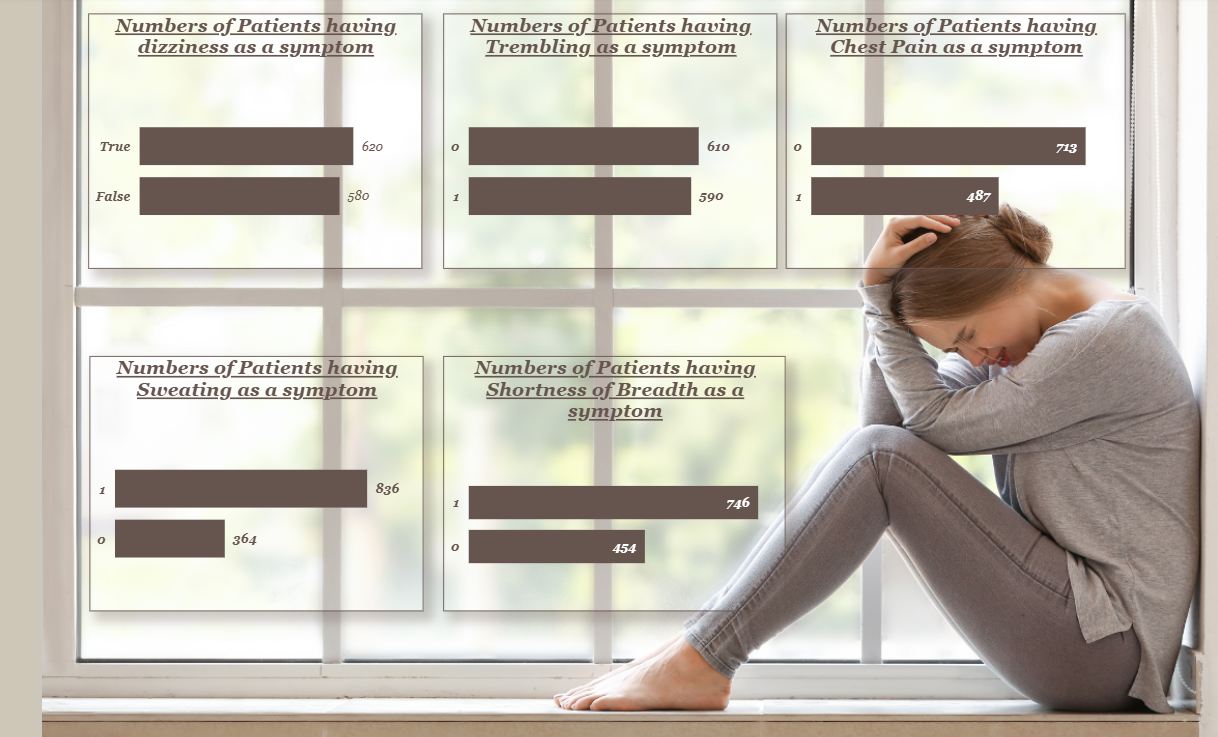

What the dashboard file says about the page in this screenshot:
{"tool":"powerbi","page":{"name":"No of Patients by Symptoms","canvas":[1280,720],"ordinal":1},"visuals":[{"type":"barChart","title":"Numbers of Patients having dizziness as a symptom","fields":{"Category":["PANIC_ATTACK_DATA.DIZZINESS"],"Y":["CountNonNull(PANIC_ATTACK_DATA.ID)"]},"box":[44.6,16.9,322.1,246.1],"z":0},{"type":"barChart","title":"Numbers of Patients having Trembling  as a symptom","fields":{"Category":["PANIC_ATTACK_DATA.TREMBLING"],"Y":["CountNonNull(PANIC_ATTACK_DATA.ID)"]},"box":[387.3,16.9,322.1,246.1],"z":1000},{"type":"barChart","title":"Numbers of Patients having Sweating as a symptom","fields":{"Category":["PANIC_ATTACK_DATA.SWEATING"],"Y":["CountNonNull(PANIC_ATTACK_DATA.ID)"]},"box":[45.8,347.5,322.1,246.1],"z":2000},{"type":"barChart","title":"Numbers of Patients having Shortness of Breadth as a symptom","fields":{"Category":["PANIC_ATTACK_DATA.SHORTNESS_OF_BREATH"],"Y":["CountNonNull(PANIC_ATTACK_DATA.ID)"]},"box":[387.3,347.5,330.6,246.1],"z":3000},{"type":"barChart","title":"Numbers of Patients having Chest Pain  as a symptom","fields":{"Category":["PANIC_ATTACK_DATA.CHEST_PAIN"],"Y":["CountNonNull(PANIC_ATTACK_DATA.ID)"]},"box":[717.8,16.9,328.2,246.1],"z":4000}]}

Visuals, with their boxes on the page's 1280x720 design canvas (x1, y1, x2, y2). These are canvas units, not pixel positions in the 1218x737 screenshot, which may show the page scaled, cropped or inside an application window:
"Numbers of Patients having dizziness as a symptom" barChart: pyautogui.locateOnScreen(45, 17, 367, 263)
"Numbers of Patients having Trembling  as a symptom" barChart: pyautogui.locateOnScreen(387, 17, 709, 263)
"Numbers of Patients having Sweating as a symptom" barChart: pyautogui.locateOnScreen(46, 348, 368, 594)
"Numbers of Patients having Shortness of Breadth as a symptom" barChart: pyautogui.locateOnScreen(387, 348, 718, 594)
"Numbers of Patients having Chest Pain  as a symptom" barChart: pyautogui.locateOnScreen(718, 17, 1046, 263)
